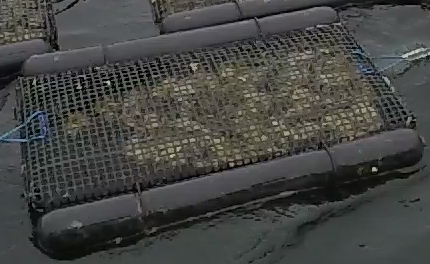bag: (23, 11, 419, 253)
